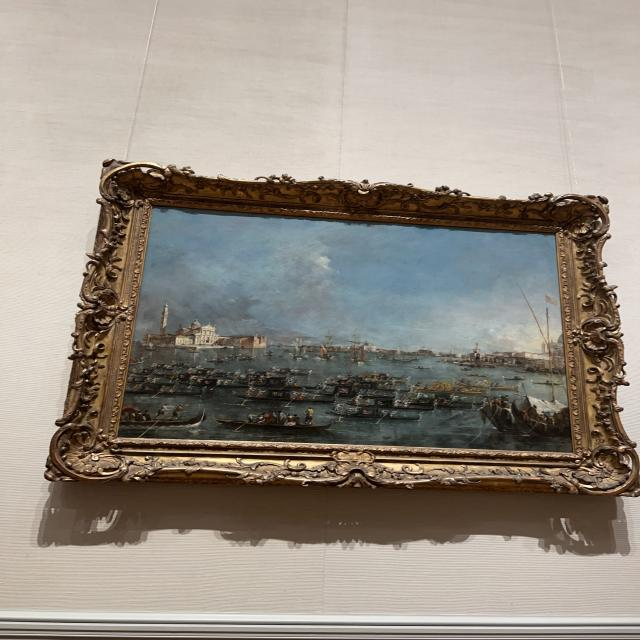ships: (116, 205, 572, 452)
